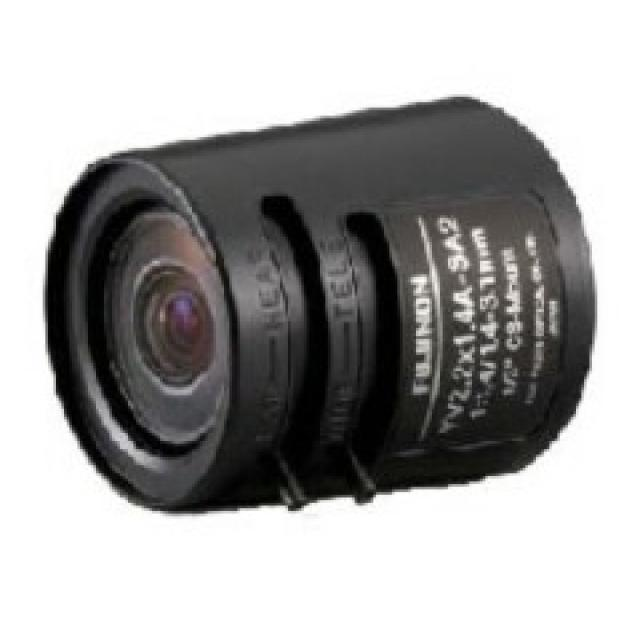hidden camera: (46, 190, 272, 501)
